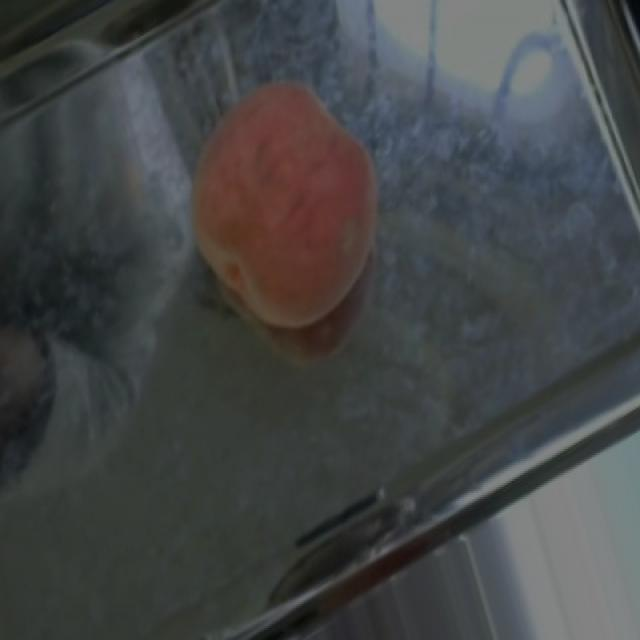Fruit: (147, 48, 425, 360)
